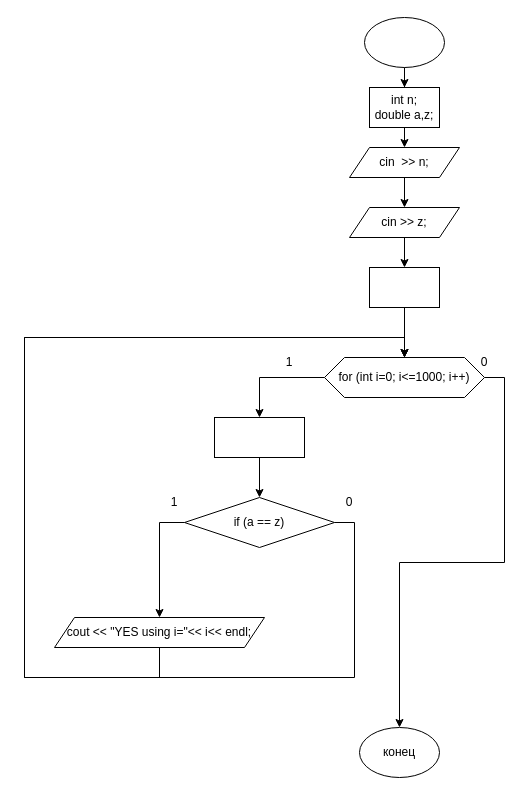
This 532x795 diagram has some shape labels left out. Here are the shapes that lost their labels. From the top down, the centre of each, then its label:
(x=404, y=42): начало
(x=404, y=287): a = 0.0;
(x=259, y=437): a = sin(n + i / n);
